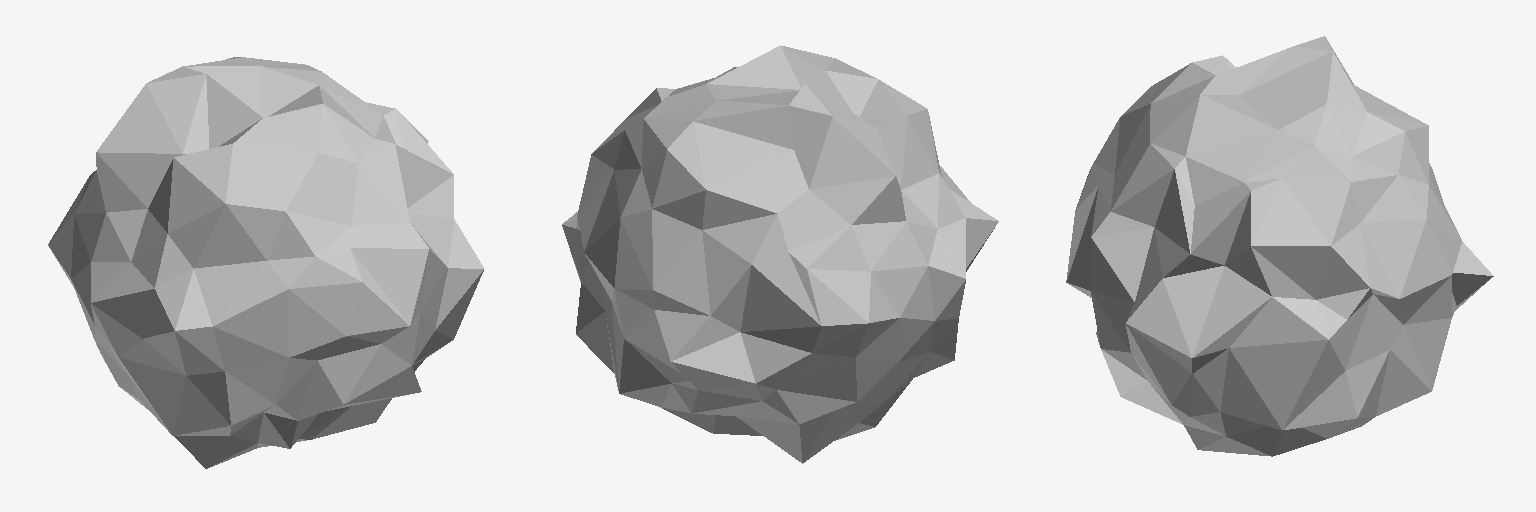
File: fire_000030.obj
3 renders of one model, left to right at view 1: azimuth 30°, elevation 25°; view 2: azimuth 150°, elevation 25°; view 3: azimuth 270°, elevation 25°, orthographic.
Parts seen in each view (by area): view 1: Icosphere; view 2: Icosphere; view 3: Icosphere.
Boxes of the visible parts, <box> form: Icosphere: <box>48,57,484,468</box>; Icosphere: <box>562,45,998,463</box>; Icosphere: <box>1066,36,1493,456</box>.
Size of the model in its own units: 1.39 by 1.38 by 1.42.